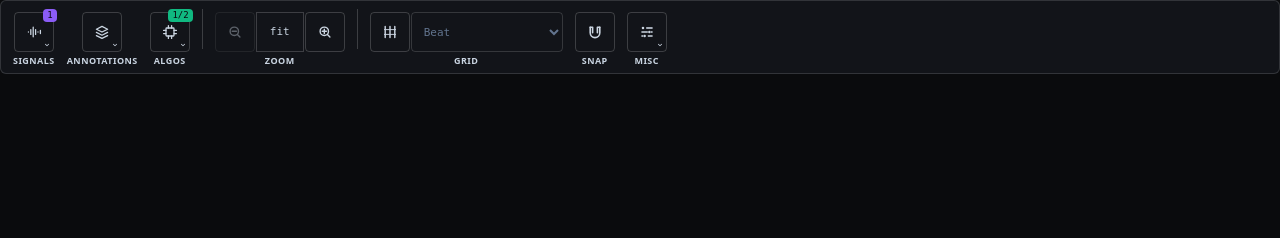
Scenario: VizControlBar — stem-filtered algo rows › names the stem and flags the row inside the popover
The image size is (1280, 238).
What coordinates should you click on to do the following:
click the button named "Algorithms"
I would click on:
 (170, 32)
Its box is [150,12,190,52].
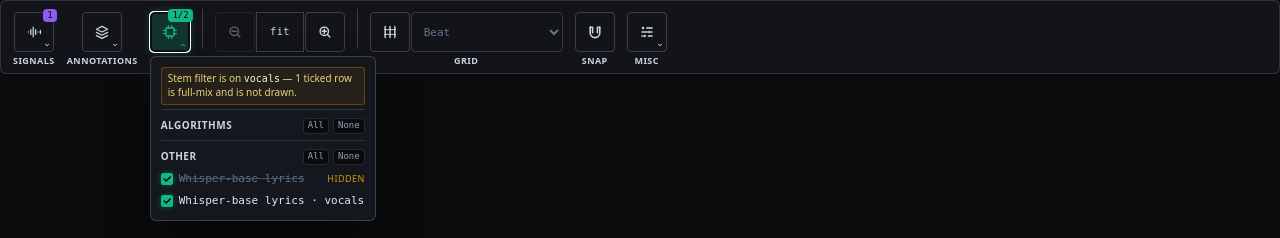
Check: the text "Stem filter is on" is shown, box [168,71,244,85]
Check: the text "vocals" is shown, box [244,73,280,84]
Check: the checkbox "Whisper-base lyrics" shows "hidden", box [327,172,365,185]
